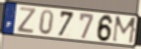0: (38, 9, 55, 36)
6: (95, 14, 115, 43)
7: (57, 10, 76, 38), (78, 12, 95, 40)
M: (111, 15, 138, 46)
Z: (16, 6, 37, 35)
